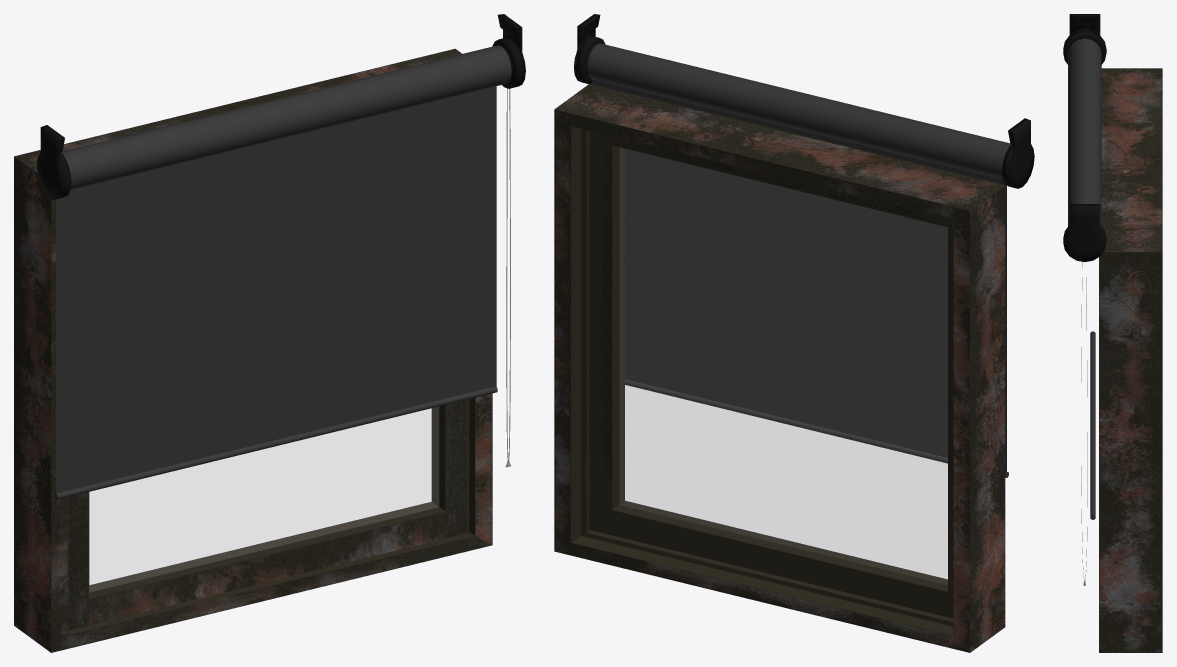
The model's file is window_blinds_closed.glb.
3 views of the same model, side by side, from view 1: azimuth 30°, elevation 25°; view 2: azimuth 150°, elevation 25°; view 3: azimuth 270°, elevation 25° (orthographic). The views are drawn at different scales.
Parts seen in each view (by area): view 1: Panel, up, f, Roller, Side.L, Side.R, String; view 2: up, Panel, f, Roller, Side.L, Side.R; view 3: f, Roller, Side.R, Side.L, Panel, String.
Part boxes in pixels (x1=…): Panel: x1=54, y1=86, x2=497, y2=499; up: x1=69, y1=399, x2=469, y2=630; f: x1=14, y1=48, x2=492, y2=652; Roller: x1=61, y1=45, x2=511, y2=189; Side.L: x1=36, y1=125, x2=71, y2=199; Side.R: x1=492, y1=14, x2=525, y2=88; String: x1=506, y1=88, x2=510, y2=461; up: x1=589, y1=131, x2=953, y2=618; Panel: x1=592, y1=79, x2=1008, y2=477; f: x1=554, y1=84, x2=1005, y2=652; Roller: x1=587, y1=43, x2=1011, y2=179; Side.L: x1=1002, y1=118, x2=1034, y2=188; Side.R: x1=574, y1=14, x2=605, y2=83; f: x1=1099, y1=68, x2=1162, y2=652; Roller: x1=1068, y1=38, x2=1101, y2=226; Side.R: x1=1063, y1=203, x2=1106, y2=261; Side.L: x1=1063, y1=14, x2=1106, y2=64; Panel: x1=1090, y1=331, x2=1095, y2=519; String: x1=1081, y1=262, x2=1087, y2=580.
Bounding box in the file's own units: 0.9456 × 1.03 × 0.206.
Materials: 6 (2 with a texture image).
